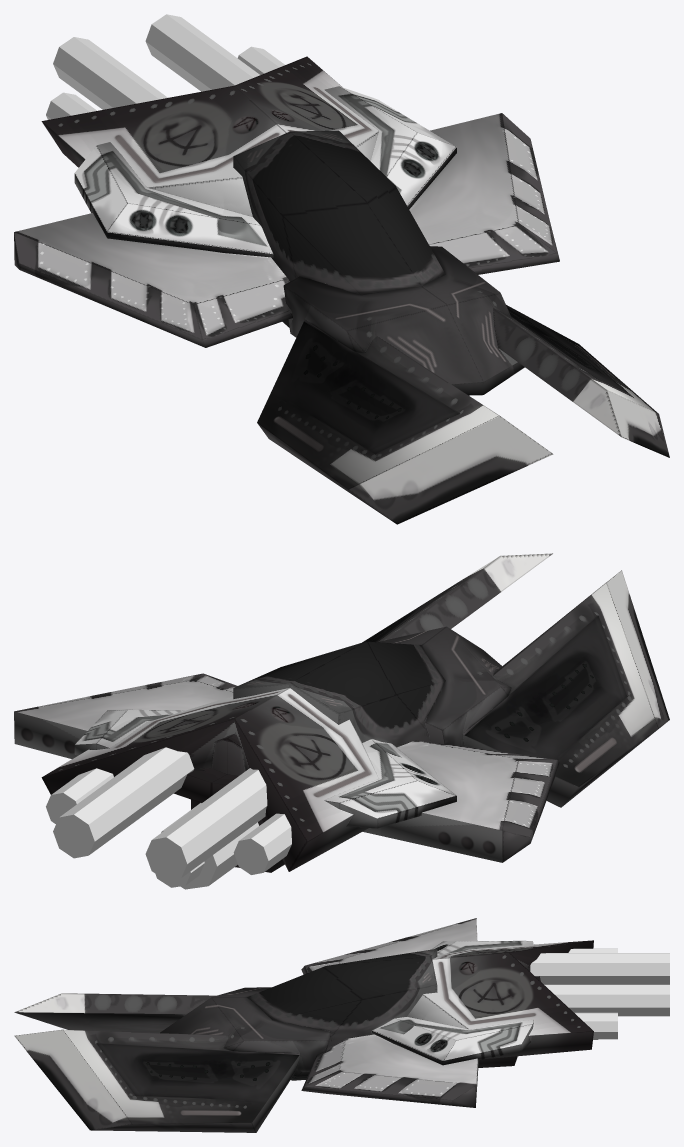
File: starshipOmega.fbx
The picture shows the model from 3 angles, top to bottom: view 1: azimuth 30°, elevation 25°; view 2: azimuth 150°, elevation 25°; view 3: azimuth 270°, elevation 25°; orthographic projection. The views are drawn at different scales.
Visible parts, largest first — view 1: Cube, Cube.001; view 2: Cube, Cube.001; view 3: Cube, Cube.001.
Part boxes in pixels (x1,y1,x2,y2): Cube: [14, 56, 669, 524]; Cube.001: [46, 14, 284, 119]; Cube: [14, 553, 669, 872]; Cube.001: [46, 747, 291, 889]; Cube: [14, 918, 593, 1132]; Cube.001: [530, 948, 669, 1039].
Bounding box in the file's own units: 7.6 × 2.65 × 12.04.
